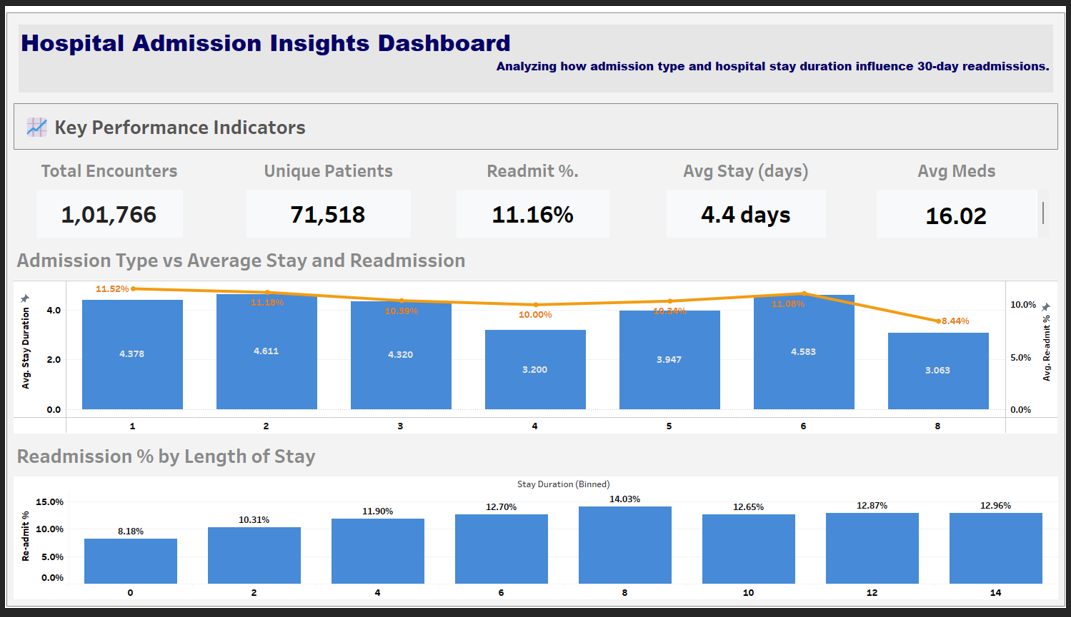

The dashboard page shown, as its layout file describes it:
{"tool":"tableau","page":{"name":"Dashboard 2","canvas":[1000,1000],"units":"permille","ordinal":1},"visuals":[{"type":"text","box":[10.7,18.8,978.7,138]},{"type":"text","box":[10.7,156.8,978.7,85.7]},{"type":"blank","box":[10.7,242.5,21.3,144.7]},{"type":"worksheet","title":"Total Encounters","mark":"Text","box":[32,242.5,174.4,144.7]},{"type":"blank","box":[206.4,242.5,21.3,144.7]},{"type":"worksheet","title":"Unique Patients","mark":"Automatic","box":[227.7,242.5,174.4,144.7]},{"type":"blank","box":[402.1,242.5,21.3,144.7]},{"type":"worksheet","title":"Readmit %.","mark":"Automatic","box":[423.4,242.5,174.4,144.7]},{"type":"blank","box":[597.9,242.5,21.3,144.7]},{"type":"worksheet","title":"Avg Stay (days)","mark":"Automatic","box":[619.1,242.5,174.4,144.7]},{"type":"blank","box":[793.6,242.5,21.3,144.7]},{"type":"worksheet","title":"Avg Meds","mark":"Automatic","box":[814.9,242.5,174.5,144.7]},{"type":"worksheet","title":"Admission Type vs Average Stay and Readmission","mark":"Automatic","rows":["Stay_Duration","readmit_flag"],"cols":["admission_type_id"],"box":[10.7,387.1,978.7,321.5]},{"type":"worksheet","title":"Readmission % by Length of Stay","mark":"Automatic","rows":["readmit_flag"],"cols":["Stay Duration (bin)"],"box":[10.7,708.6,978.7,272.6]}]}

Visuals, with their boxes on the dashboard's canvas, which has no fixed pixel size, in thousandths of its width and height (x1, y1, x2, y2). These are canvas units, not pixel positions in the 1071x617 screenshot, which may show the page scaled, cropped or inside an application window:
text: select_region(11, 19, 989, 157)
text: select_region(11, 157, 989, 242)
blank: select_region(11, 242, 32, 387)
"Total Encounters" worksheet (Text marks): select_region(32, 242, 206, 387)
blank: select_region(206, 242, 228, 387)
"Unique Patients" worksheet: select_region(228, 242, 402, 387)
blank: select_region(402, 242, 423, 387)
"Readmit %." worksheet: select_region(423, 242, 598, 387)
blank: select_region(598, 242, 619, 387)
"Avg Stay (days)" worksheet: select_region(619, 242, 794, 387)
blank: select_region(794, 242, 815, 387)
"Avg Meds" worksheet: select_region(815, 242, 989, 387)
"Admission Type vs Average Stay and Readmission" worksheet: select_region(11, 387, 989, 709)
"Readmission % by Length of Stay" worksheet: select_region(11, 709, 989, 981)
